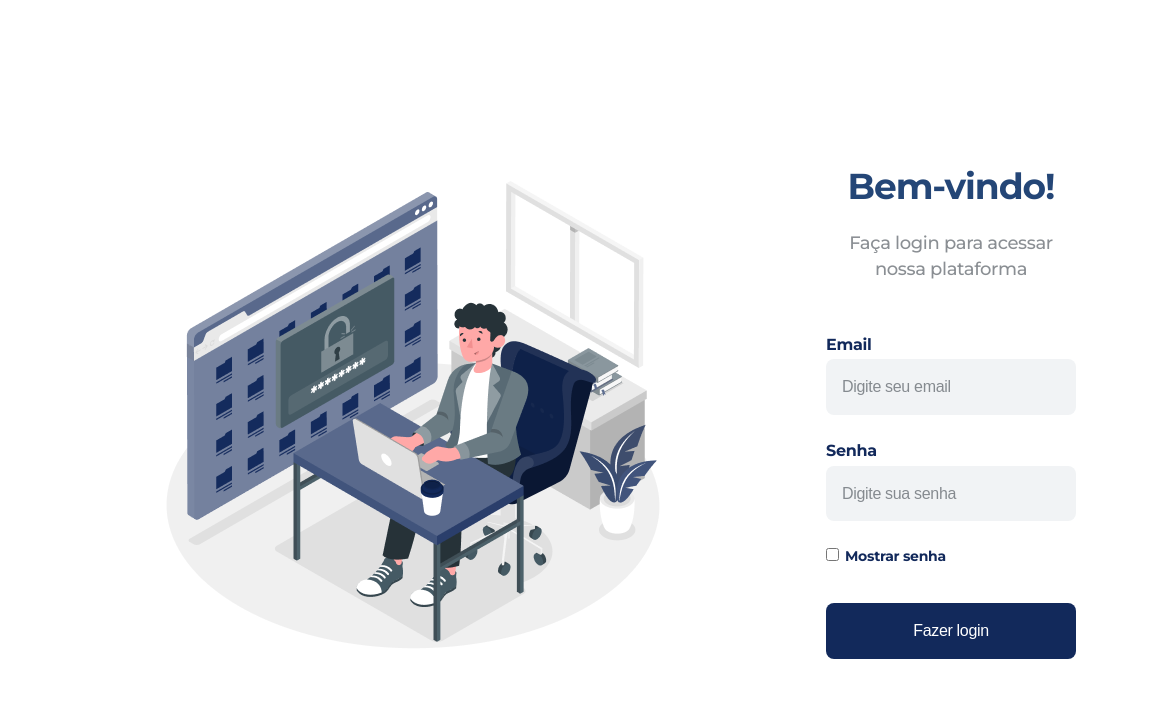
Edita contato com sucesso › Faz requisição corretamente e altera a lista ao remover contato
In the field labelled "Email": x=951, y=387 left=826, top=359, right=1076, bottom=415, type "email@email.com"
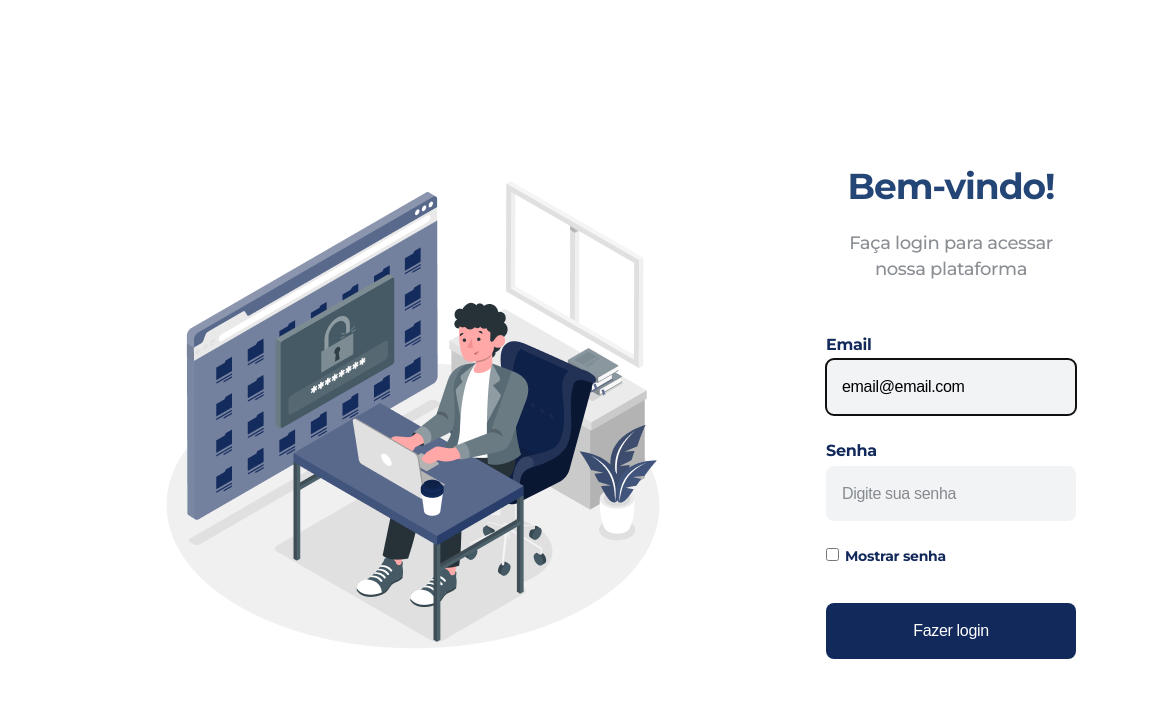
In the password field labelled "Senha": x=951, y=494 left=826, top=466, right=1076, bottom=521, type "123456"
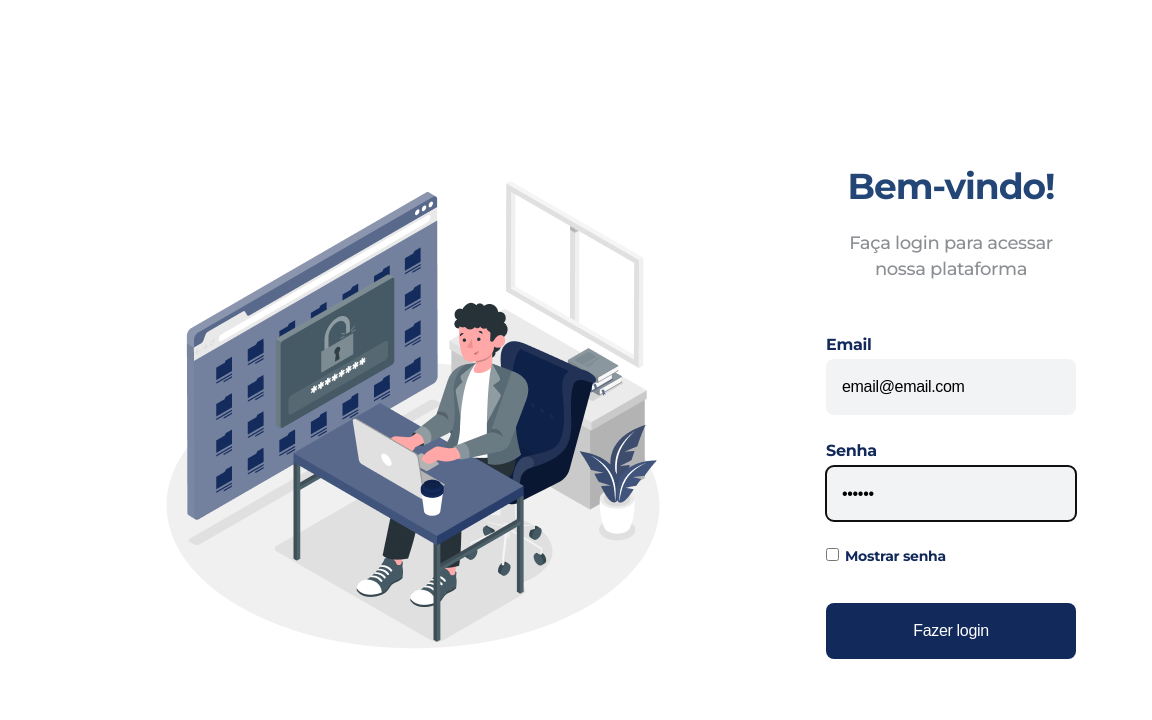
Click the button "Fazer login": x=951, y=631 left=826, top=603, right=1076, bottom=659
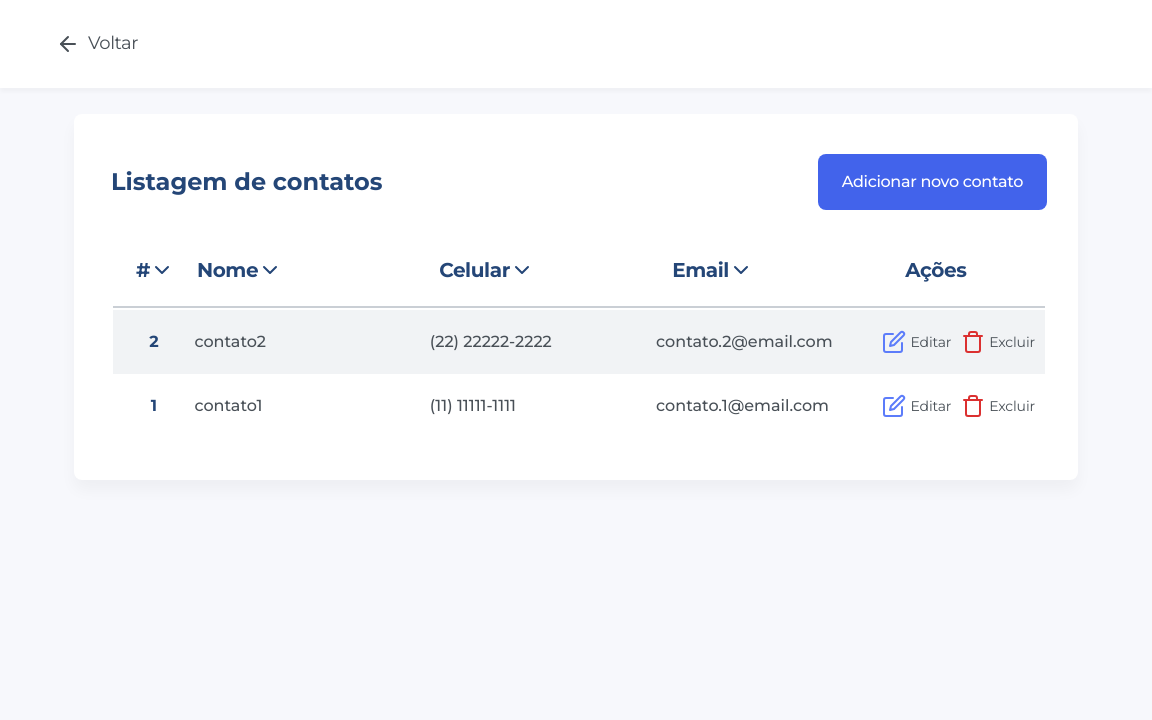
Check: the link "Adicionar novo contato" is shown, box left=818, top=154, right=1047, bottom=210
Check: the text "1" is shown, box left=113, top=394, right=194, bottom=417
Check: the text "contato1" is shown, box left=194, top=394, right=430, bottom=417
Click the button "Excluir" in the row of "contato1": x=998, y=406 left=961, top=394, right=1035, bottom=418
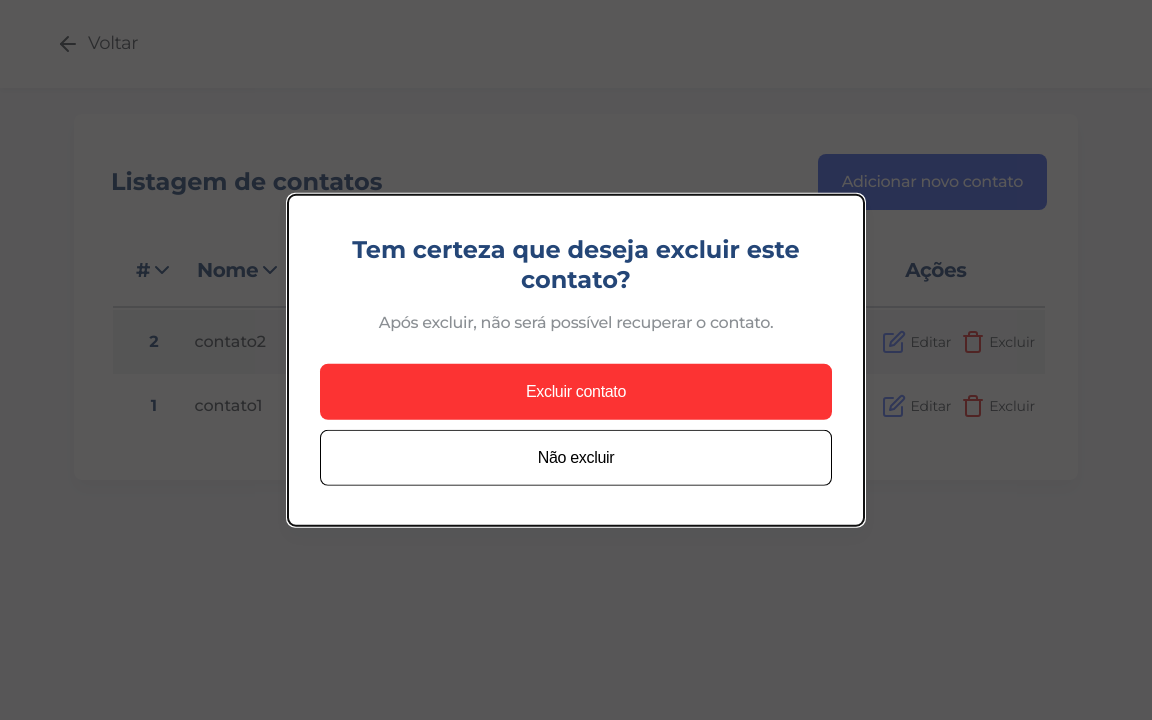
Click the button "Excluir contato": x=576, y=392 left=320, top=364, right=832, bottom=420
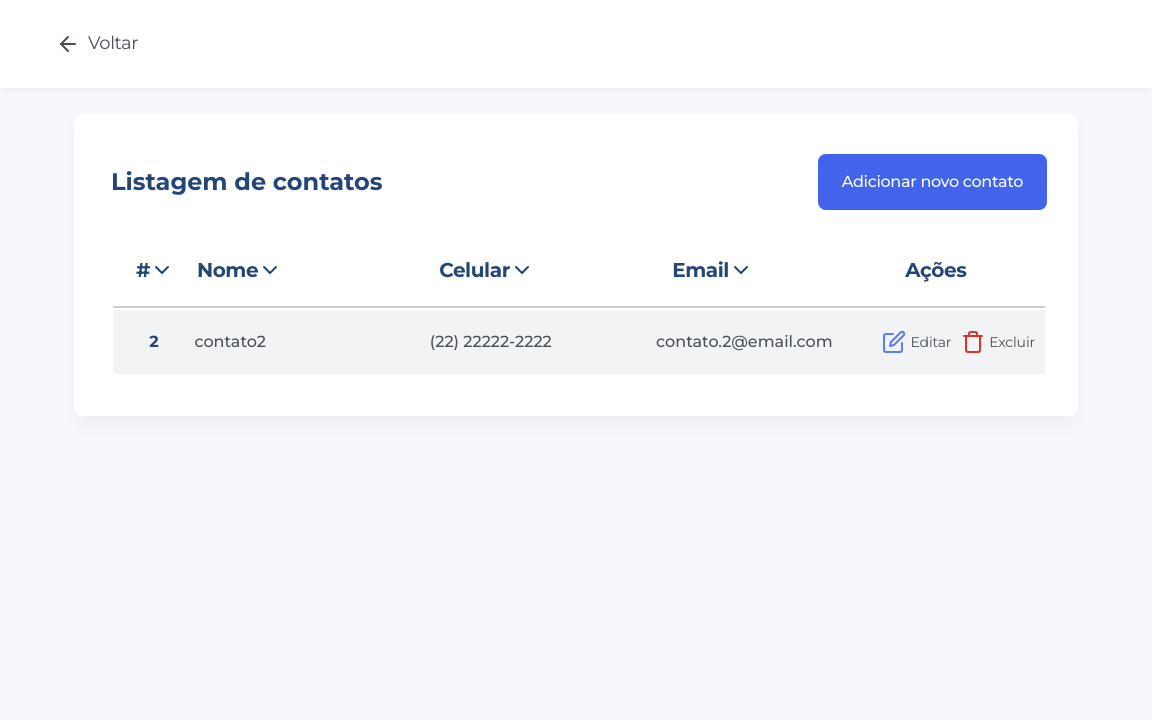
Check: the text "1" is gone
Check: the text "contato1" is gone
Check: the text "contato.1@email.com" is gone
